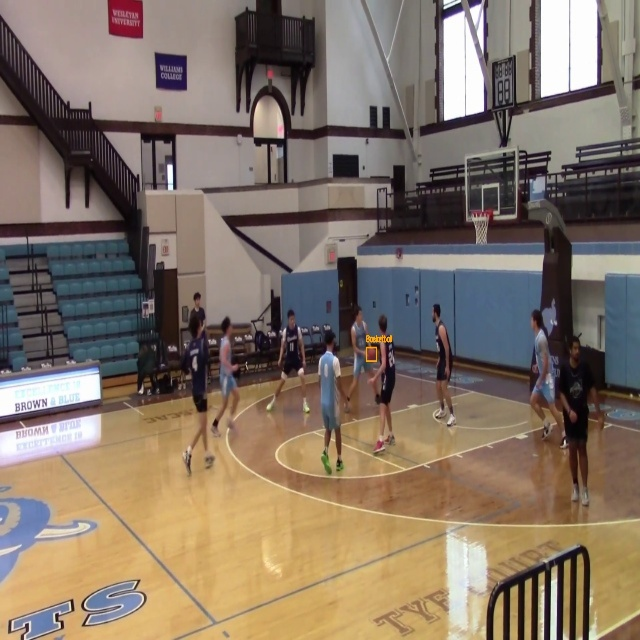Basketball: (366, 348, 376, 361)
